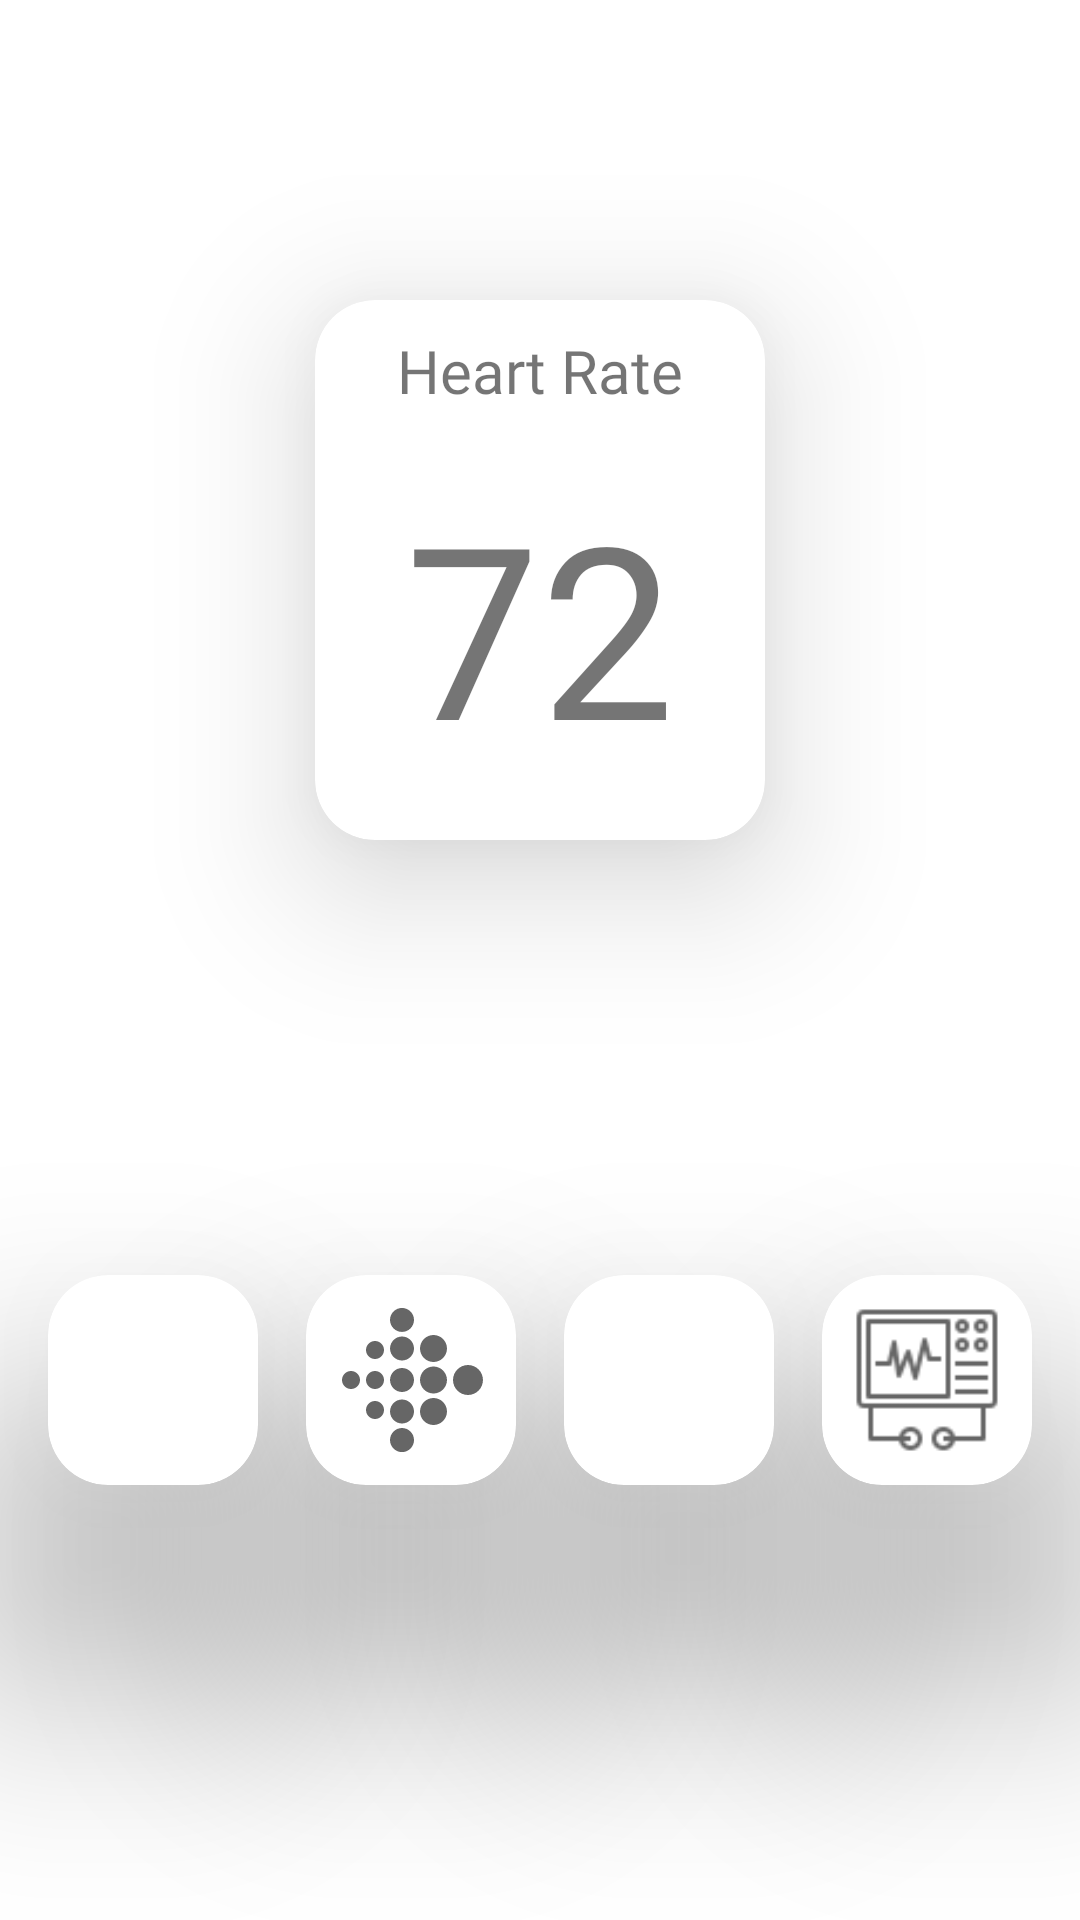

Where icons sit on this 1080px×1920px app screen, as (x1, y1, x2, y2):
ecg: (856, 1309, 998, 1451)
